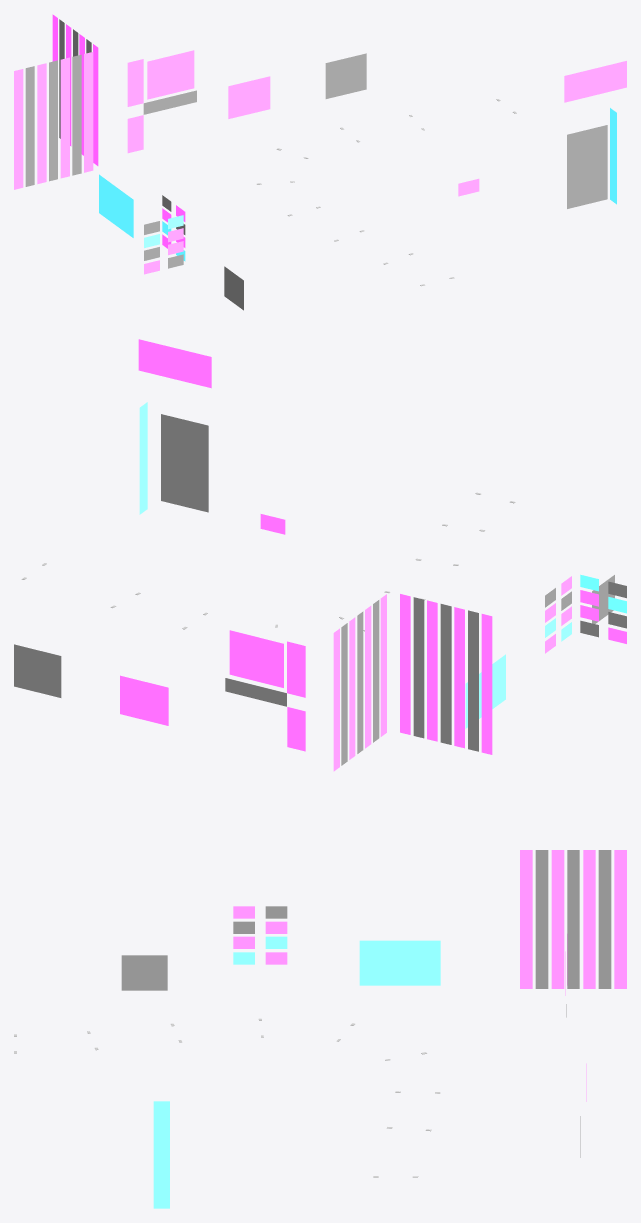
The model's file is L1Light.fbx.
The picture shows the model from 3 angles, top to bottom: view 1: azimuth 30°, elevation 25°; view 2: azimuth 150°, elevation 25°; view 3: azimuth 270°, elevation 25°; orthographic projection. The views are drawn at different scales.
Parts seen in each view (by area): view 1: Cube.002; view 2: Cube.002; view 3: Cube.002.
Part boxes in pixels (box(x1,y1,x2,y2)): Cube.002: box(14, 14, 626, 310); Cube.002: box(14, 339, 626, 771); Cube.002: box(14, 850, 626, 1208).
Size of the model in its own units: 15853 by 4782 by 15726.
